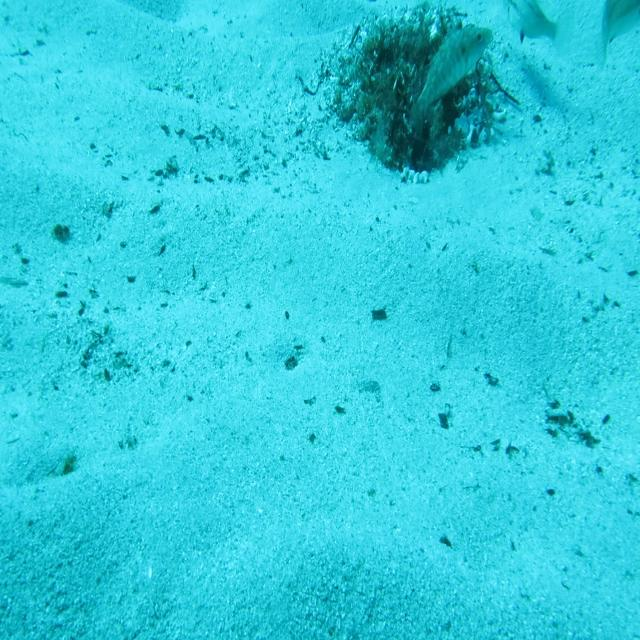LF: (408, 24, 492, 139)
core_nest: (394, 23, 444, 66)
female: (502, 0, 576, 68), (595, 0, 639, 76)
nest: (316, 0, 508, 188)
vegetation: (52, 222, 70, 245), (370, 304, 389, 323), (284, 352, 298, 372)
